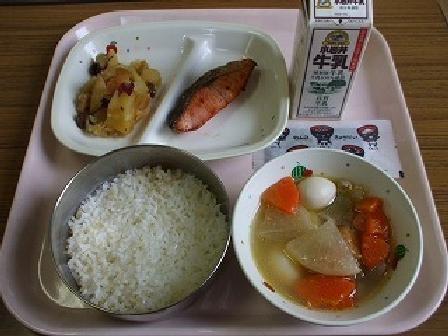Fish: (172, 48, 274, 145)
Milk: (279, 0, 392, 120)
Rice: (57, 158, 232, 314)
vegetable based cooked food: (67, 45, 158, 141)
vegetable soup: (222, 150, 434, 330)
